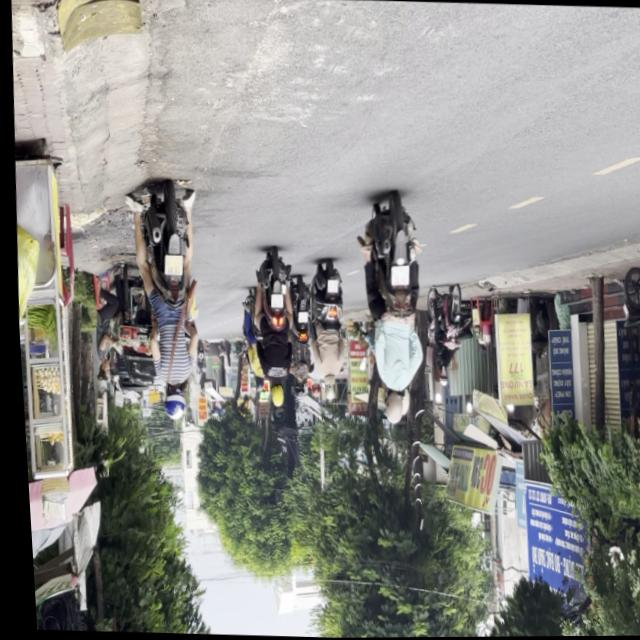helmet: (379, 390, 404, 427), (158, 383, 182, 420), (265, 383, 281, 409)
licenseplate: (120, 180, 208, 424), (346, 193, 431, 430), (243, 248, 296, 409)
nohelmet: (160, 256, 180, 277), (387, 265, 407, 286), (266, 295, 279, 308)
